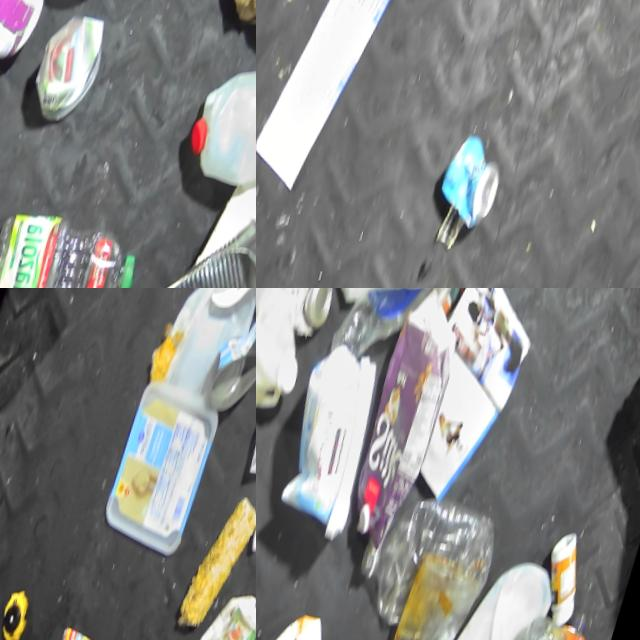can: (25, 8, 115, 130), (132, 207, 256, 288), (435, 128, 516, 234), (205, 328, 256, 421), (268, 288, 348, 341)
milk_jug: (421, 543, 571, 640), (146, 288, 256, 400), (181, 45, 256, 200), (256, 288, 333, 429)
non_white_jug: (339, 288, 477, 556), (256, 599, 349, 640)
plastic_bottle: (348, 484, 514, 640), (0, 206, 150, 288), (328, 288, 457, 375), (487, 605, 582, 640)
